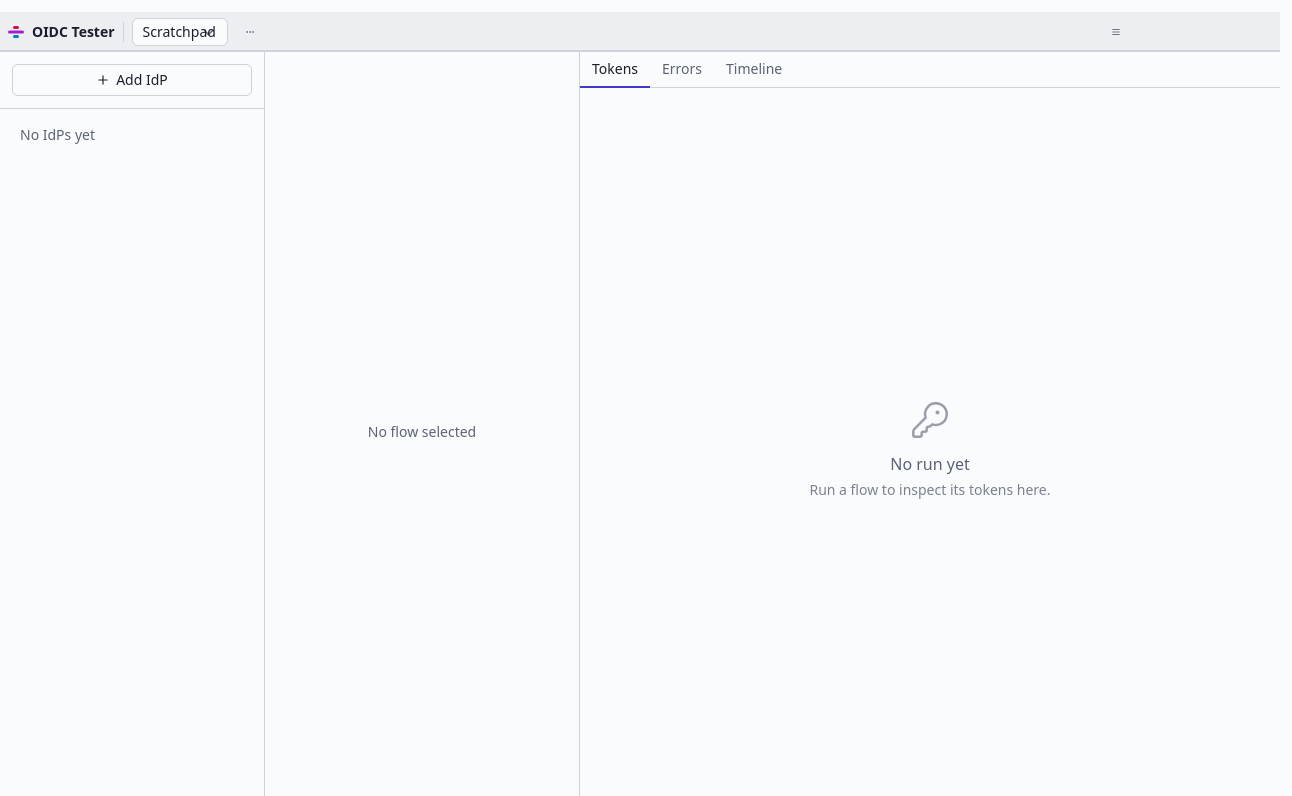
Test case: app › REQ-UI-017 + buttons create a client and a typed flow without a confirmation dialog
Click the button "Add IdP".
click(132, 80)  # box [12, 64, 252, 96]
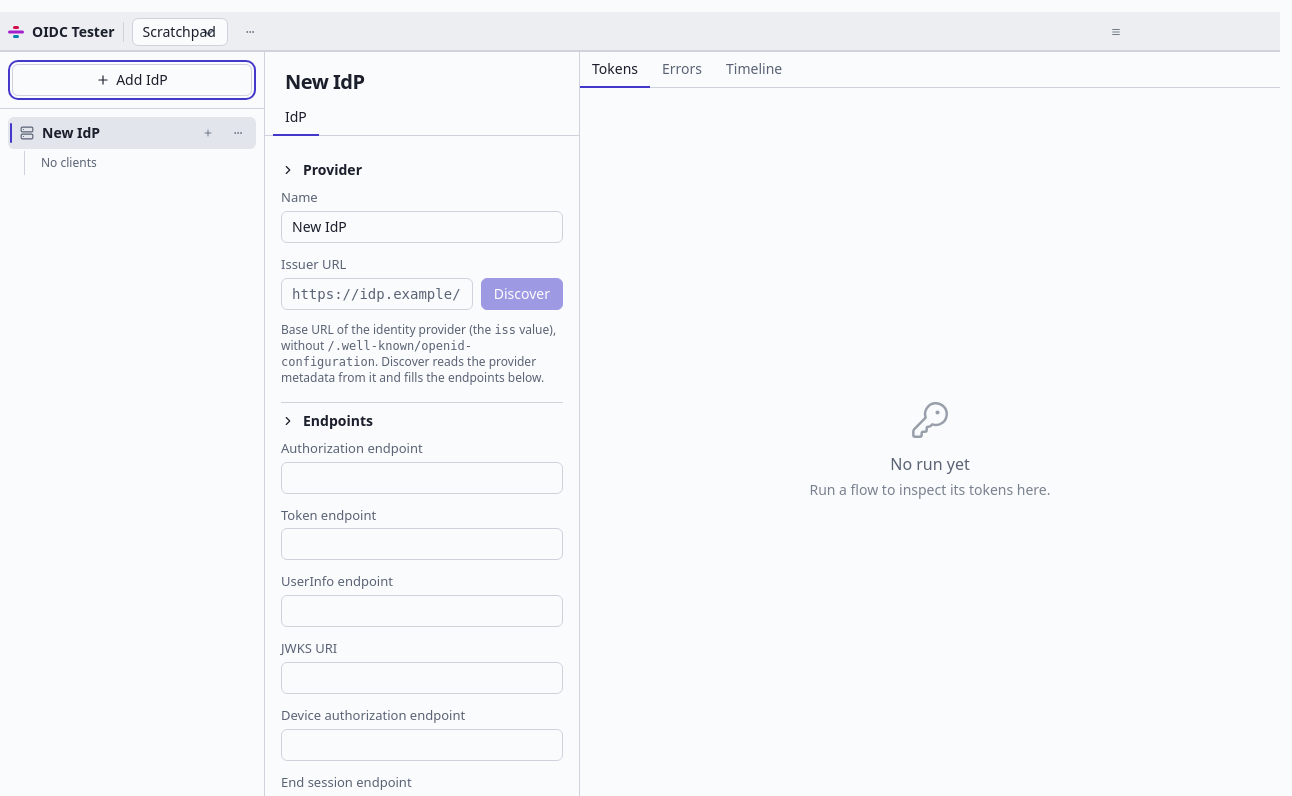
Click the button named "Add client to New IdP".
click(208, 133)  # box [194, 119, 222, 147]
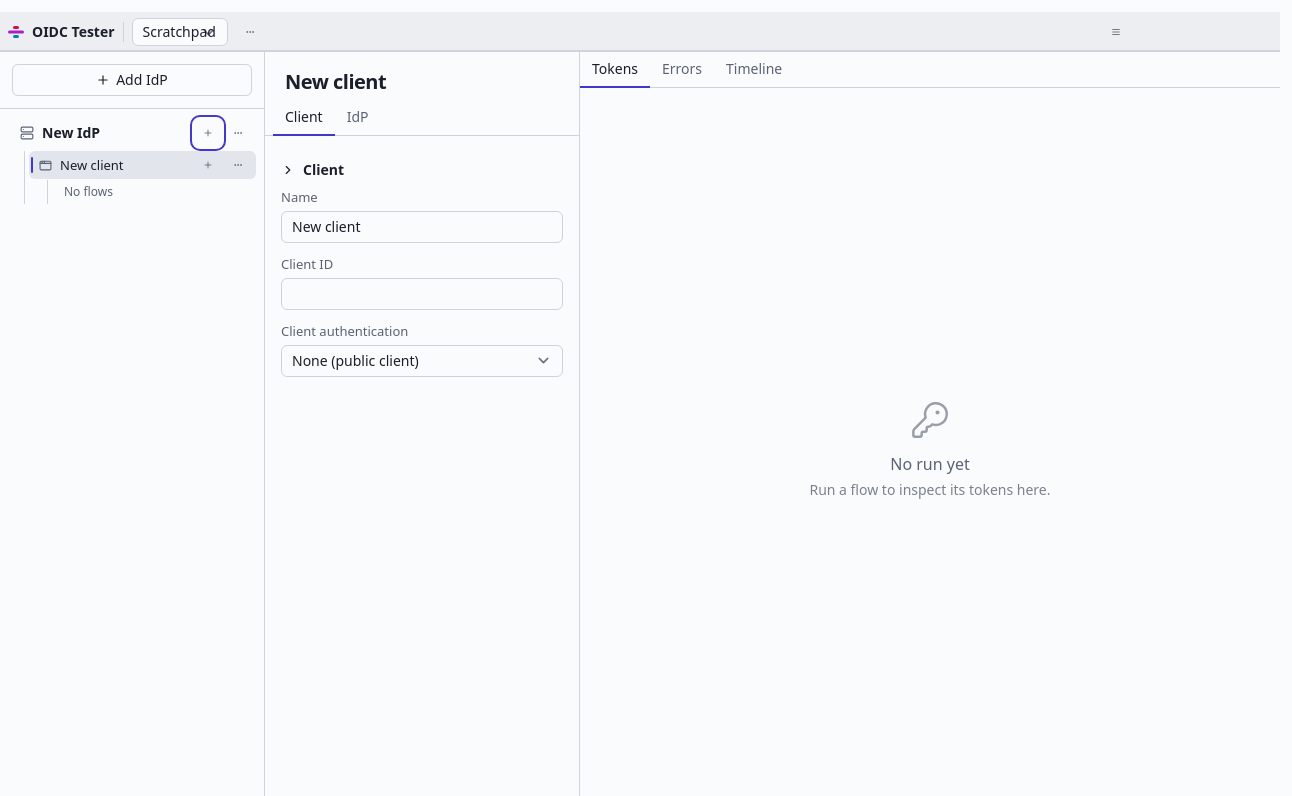
Check: the button "New client" is shown, box [29, 152, 192, 178]
Click the button named "Add flow to New client".
click(208, 165)  # box [194, 151, 222, 179]
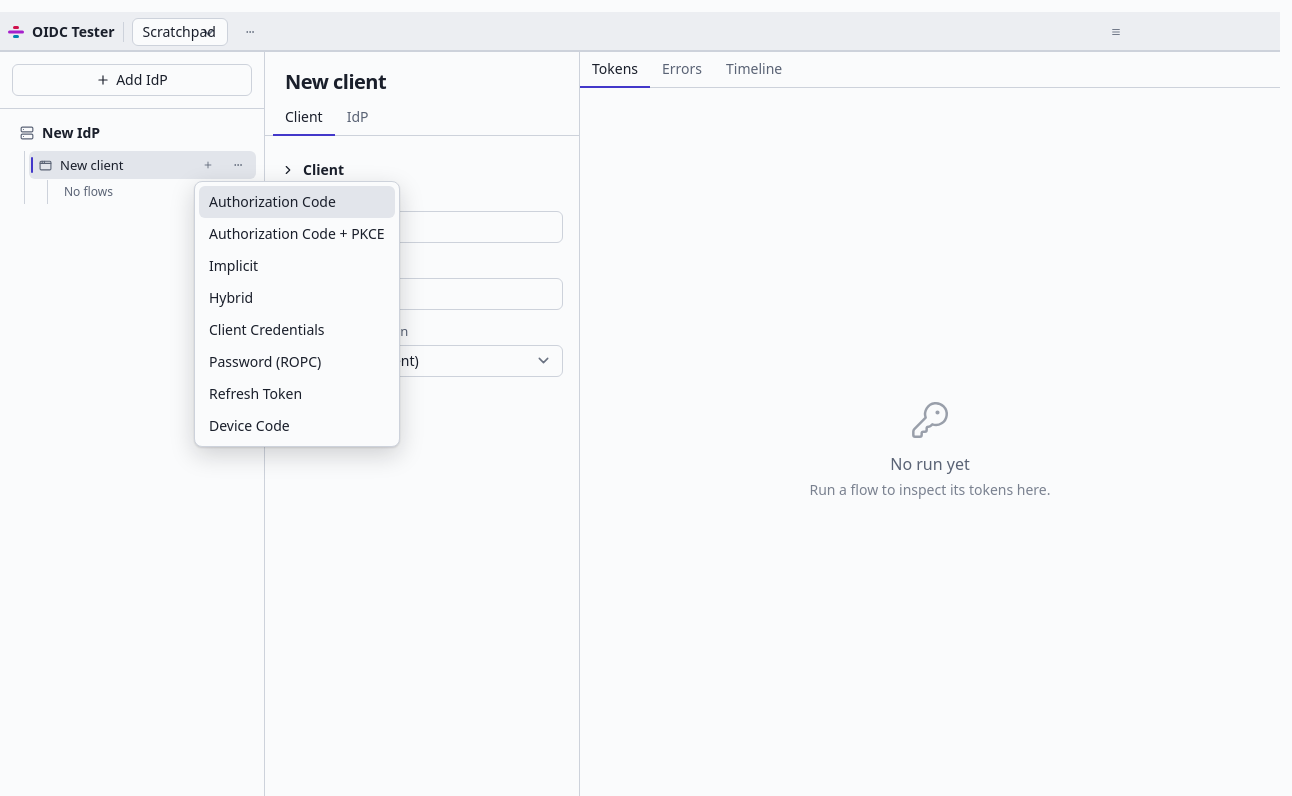
Click the menu item "Device Code".
click(297, 426)  # box [199, 410, 395, 442]
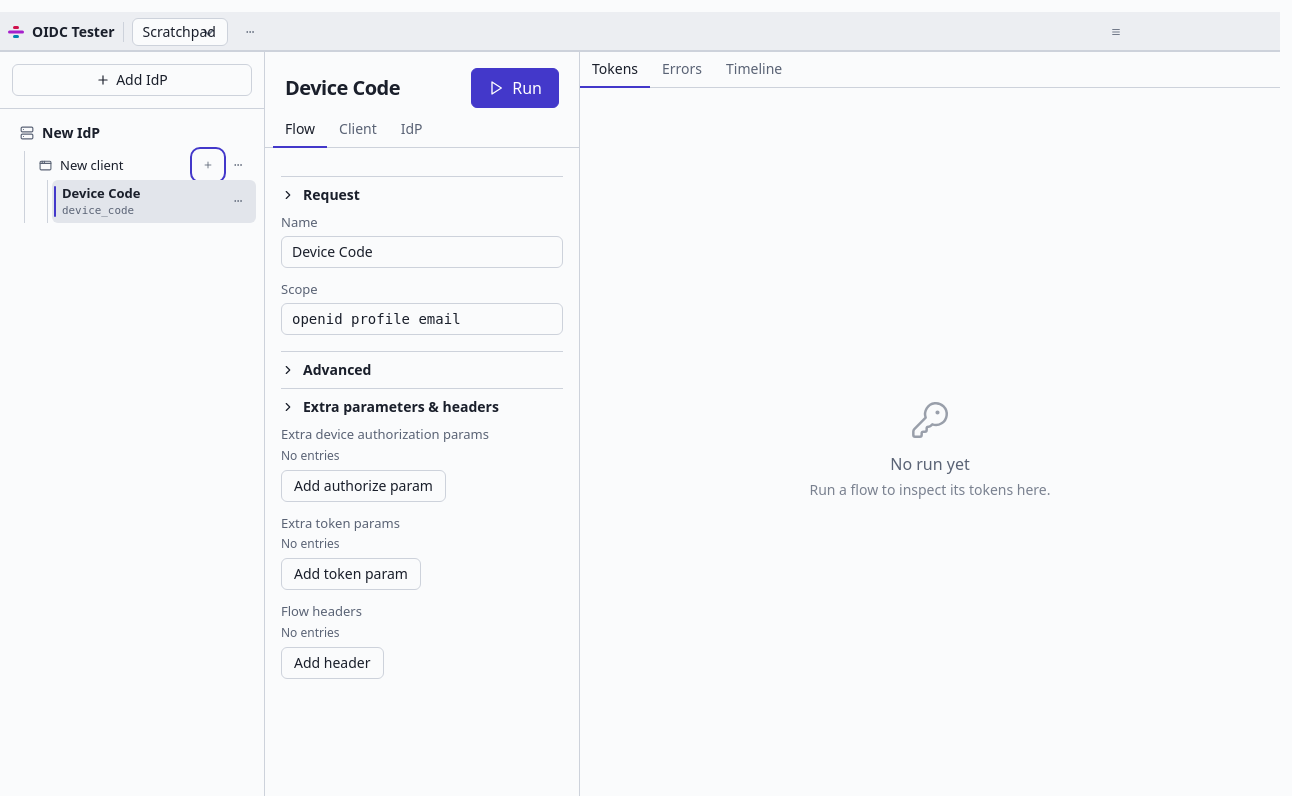
Check: the list item "Device Code device_code" is shown, box [52, 180, 222, 223]
